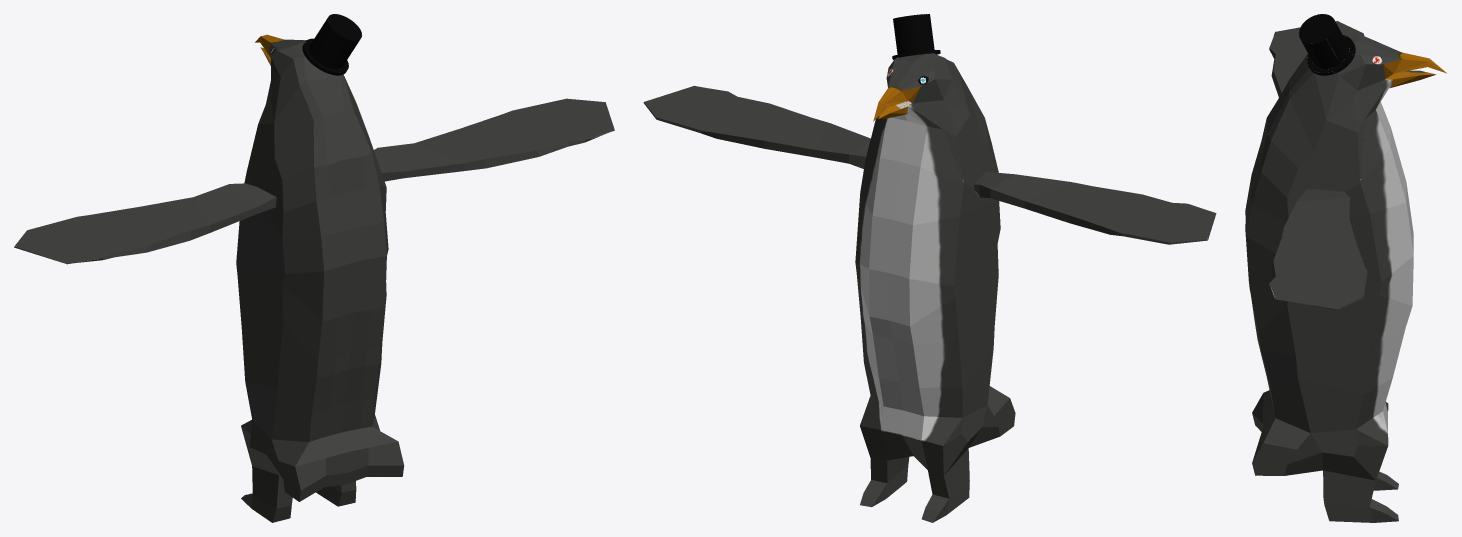
The model's file is ping.obj.
The picture shows the model from 3 angles, left to right: view 1: azimuth 30°, elevation 25°; view 2: azimuth 150°, elevation 25°; view 3: azimuth 270°, elevation 25°; orthographic projection. The views are drawn at different scales.
Parts seen in each view (by area): view 1: Plane.001; view 2: Plane.001; view 3: Plane.001.
Part boxes in pixels (x1,y1,x2,y2): Plane.001: (14,14,614,522); Plane.001: (643,14,1216,522); Plane.001: (1245,14,1446,522).
Bounding box in the file's own units: 6.58 × 5.26 × 1.95.
2 materials, 2 textured.
